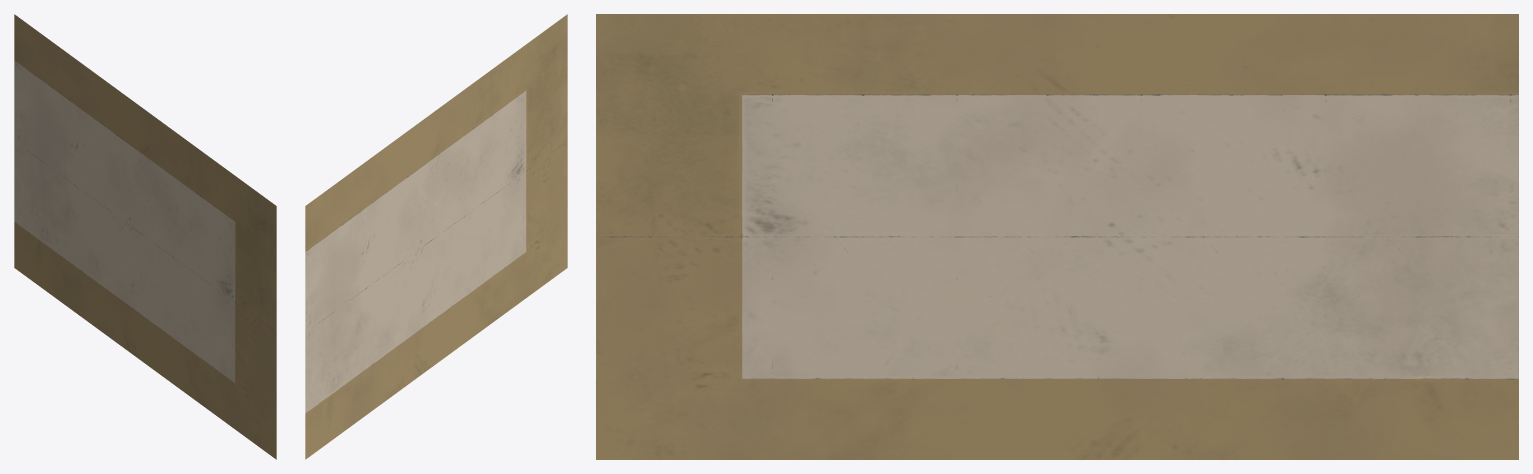
The model's file is SM_Flag01c.fbx.
3 renders of one model, left to right at view 1: azimuth 30°, elevation 25°; view 2: azimuth 150°, elevation 25°; view 3: azimuth 270°, elevation 25°, orthographic. The views are drawn at different scales.
Visible parts, largest first — view 1: SM_Flag01c; view 2: SM_Flag01c; view 3: SM_Flag01c.
Boxes of the visible parts, bbox=[...] form: SM_Flag01c: bbox=[14, 14, 276, 459]; SM_Flag01c: bbox=[305, 14, 567, 459]; SM_Flag01c: bbox=[596, 14, 1518, 459].
Bounding box in the file's own units: 4.35e-06 × 80 × 150.
